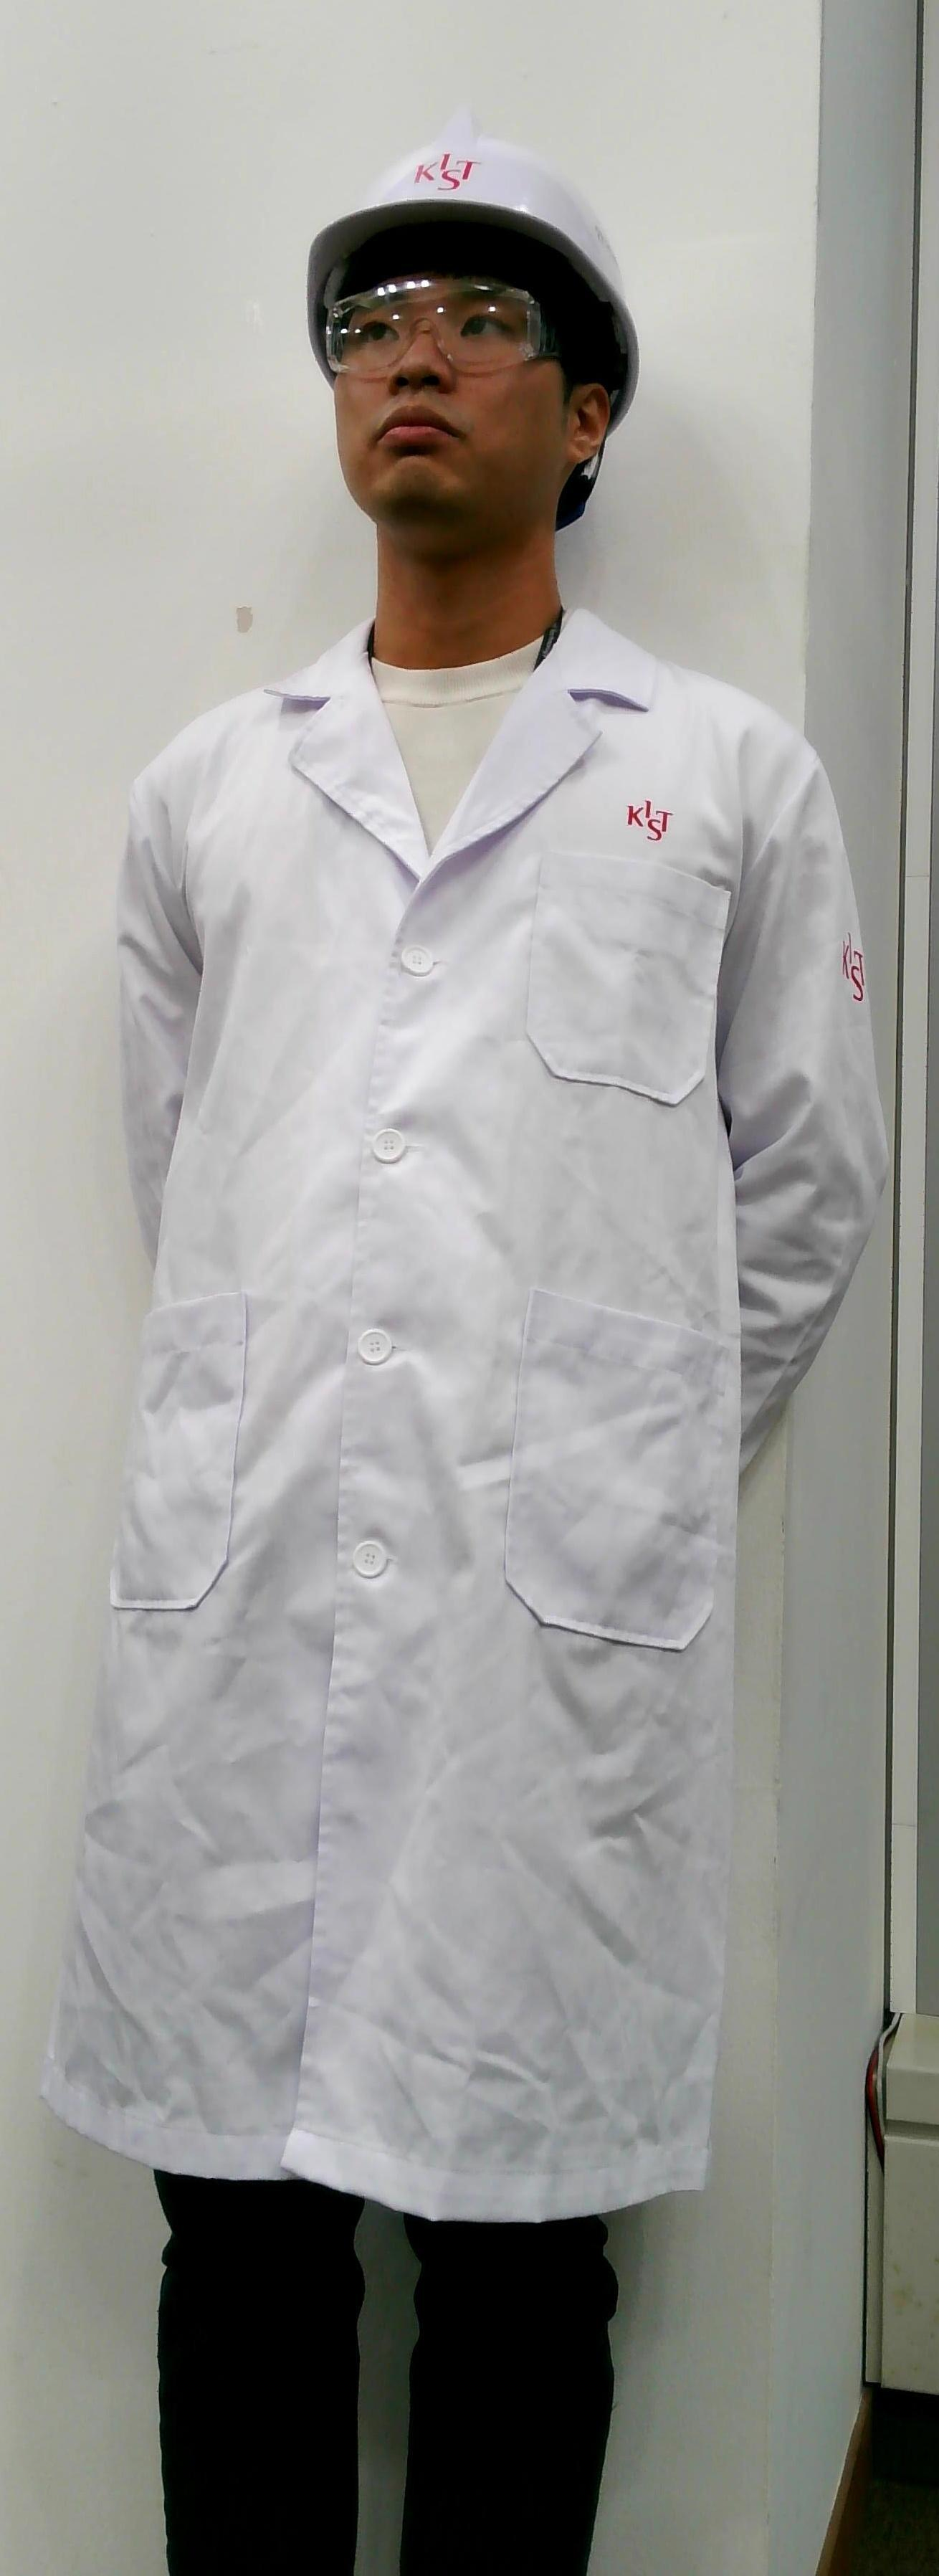lab_coat: (33, 660, 808, 2219)
